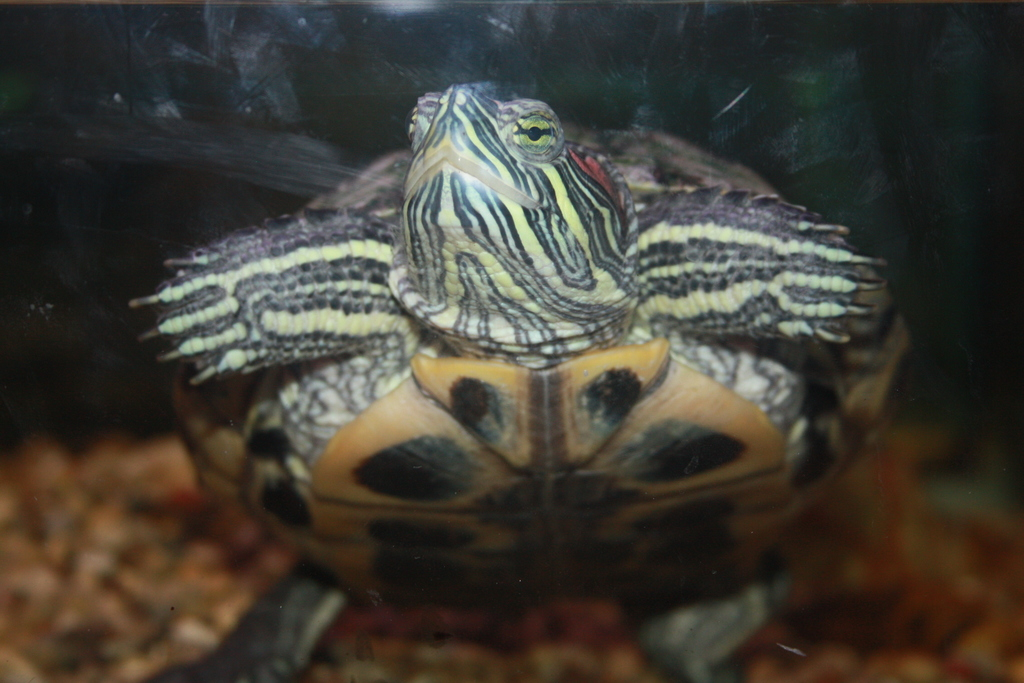Sea turtles: (124, 73, 915, 682)
